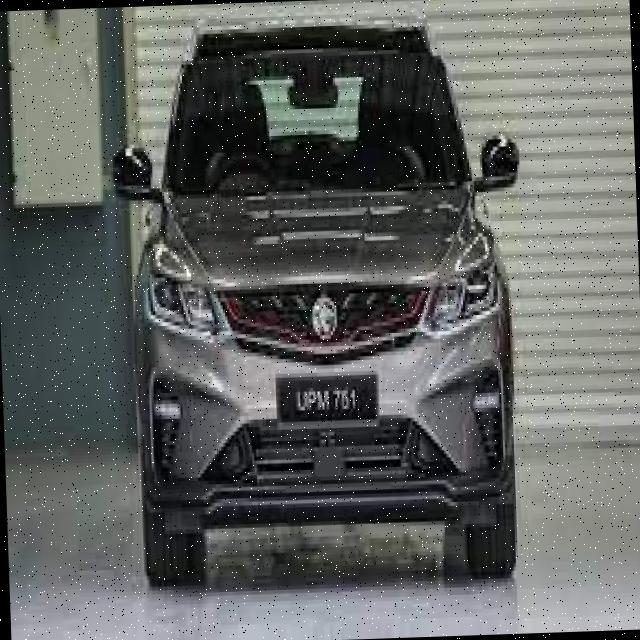License_Plate: (277, 373, 380, 422)
car: (106, 11, 528, 588)
